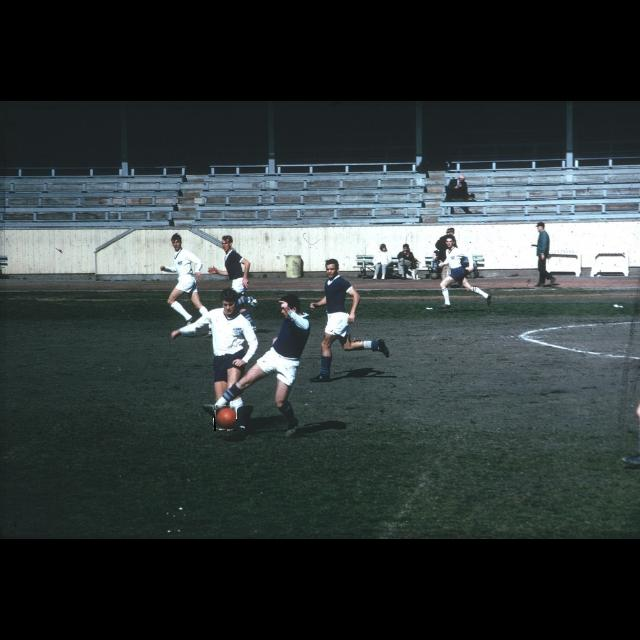Football: (214, 405, 236, 431)
